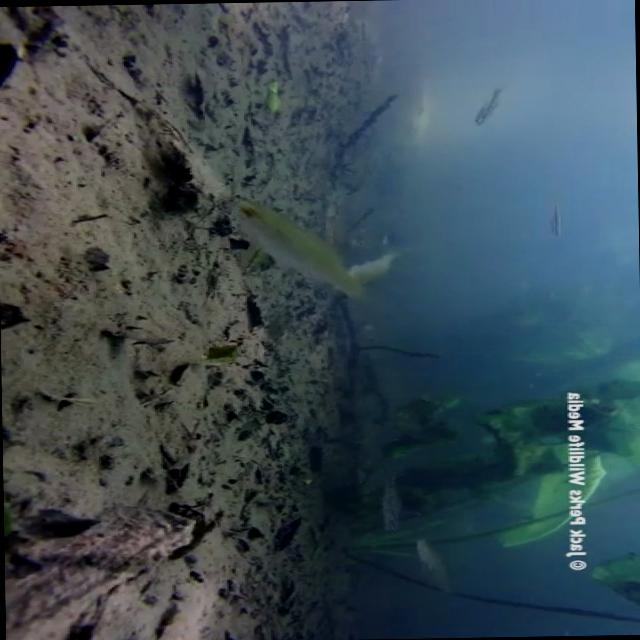Cakil Baligi: (230, 196, 378, 312)
